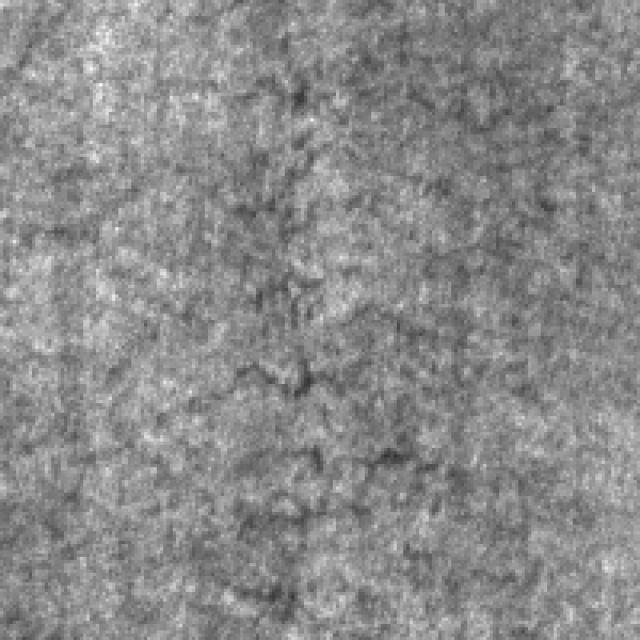crazing: (35, 121, 490, 458), (208, 438, 538, 602)
